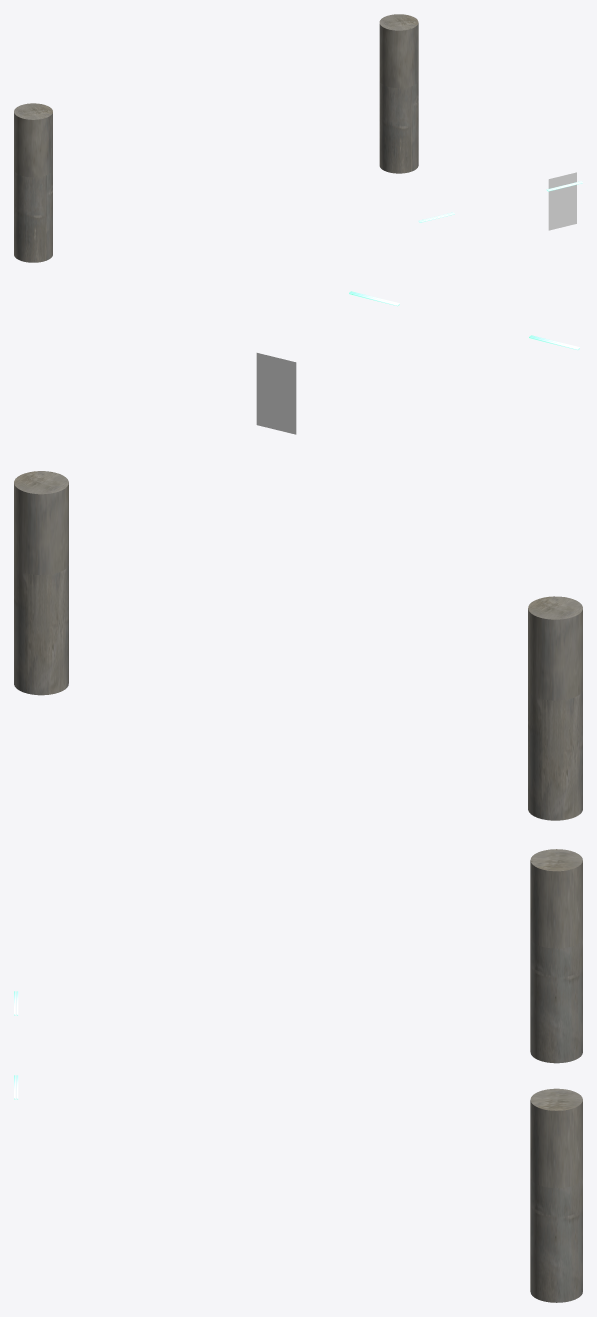
Rendered from parking.gltf.
The picture shows the model from 3 angles, top to bottom: view 1: azimuth 30°, elevation 25°; view 2: azimuth 150°, elevation 25°; view 3: azimuth 270°, elevation 25°; orthographic projection. The views are drawn at different scales.
Parts seen in each view (by area): view 1: Cylinder.004, Cylinder.005, Plane.005; view 2: Cylinder.005, Cylinder.004, Plane.005; view 3: Cylinder.004, Cylinder.005.
Boxes of the visible parts, x1,y1,x2,y2 form: Cylinder.004: (379, 14, 418, 173); Cylinder.005: (14, 103, 52, 262); Plane.005: (548, 172, 576, 230); Cylinder.005: (528, 596, 582, 820); Cylinder.004: (14, 471, 68, 695); Plane.005: (256, 353, 296, 434); Cylinder.004: (530, 1088, 582, 1302); Cylinder.005: (530, 849, 582, 1063).
Size of the model in its own units: 37.22 by 12.73 by 34.19.
Materials: 4 (2 with a texture image).
